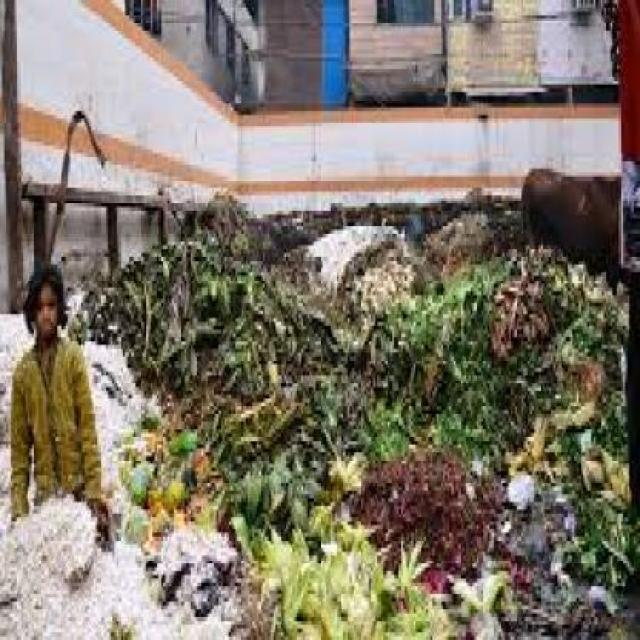garbage: (135, 242, 638, 636)
